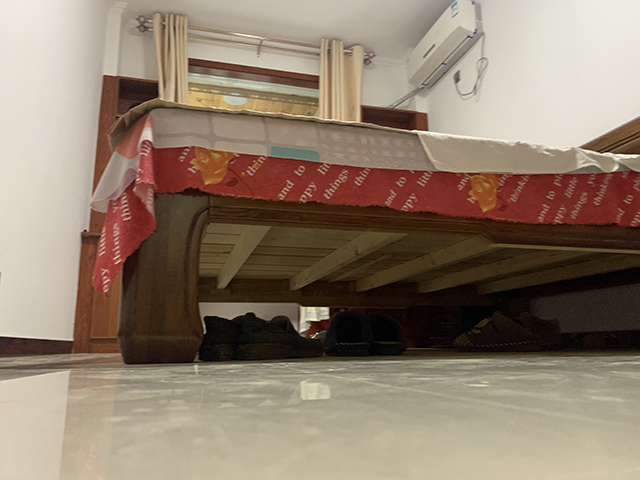bed: (89, 98, 640, 365)
curtain: (149, 7, 192, 102), (320, 33, 365, 121)
slippers: (322, 310, 366, 352), (371, 311, 411, 355)
